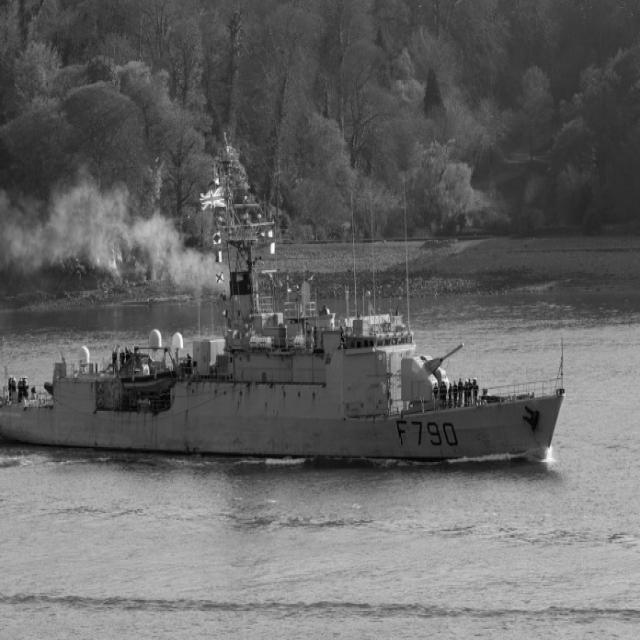Fragata: (1, 136, 569, 471)
